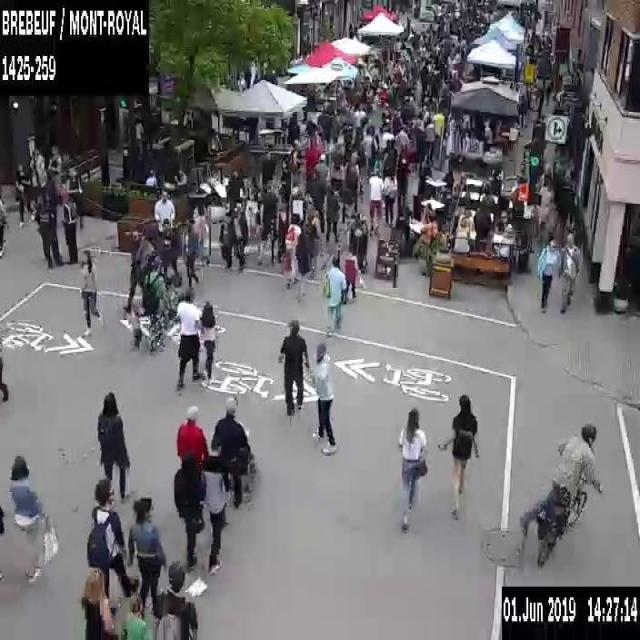cyclist: (520, 422, 602, 558)
pedestrian: (7, 452, 58, 580), (88, 473, 138, 601), (437, 394, 478, 514), (210, 397, 250, 509), (128, 499, 165, 614), (396, 408, 428, 533), (96, 387, 131, 493), (173, 450, 204, 566), (152, 561, 196, 639), (276, 317, 309, 413), (310, 341, 336, 455), (204, 450, 228, 573), (141, 256, 167, 351), (176, 287, 201, 385), (82, 568, 114, 638), (321, 256, 349, 336), (124, 224, 148, 314), (77, 248, 101, 335), (36, 188, 62, 268), (557, 230, 581, 313), (257, 177, 278, 270), (176, 403, 208, 464), (200, 297, 222, 384), (537, 238, 561, 311), (15, 164, 40, 226), (303, 202, 321, 281), (62, 196, 82, 267), (366, 166, 384, 235), (181, 220, 199, 289), (284, 213, 301, 285), (382, 162, 400, 224), (225, 168, 244, 225), (324, 181, 341, 243), (344, 151, 360, 212), (153, 186, 174, 232), (233, 204, 247, 269), (122, 599, 144, 639), (342, 250, 358, 302), (219, 209, 233, 268), (127, 302, 142, 352), (360, 126, 377, 166), (28, 146, 44, 187), (46, 142, 60, 188), (454, 216, 469, 252), (312, 152, 328, 182), (457, 205, 474, 233), (432, 105, 444, 141), (0, 182, 5, 257), (0, 357, 7, 402), (134, 116, 142, 149), (144, 168, 157, 188)
